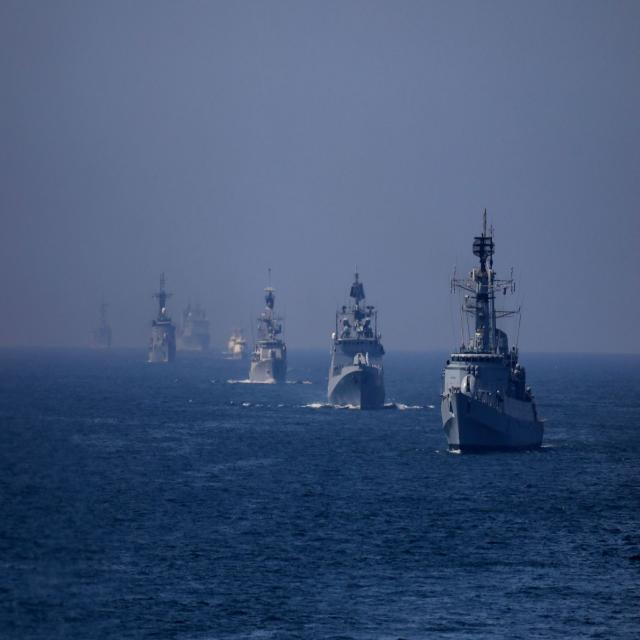navalvessels: (432, 191, 560, 469), (315, 264, 399, 432), (247, 266, 293, 398), (182, 259, 228, 363), (141, 255, 175, 375), (90, 290, 128, 348)
